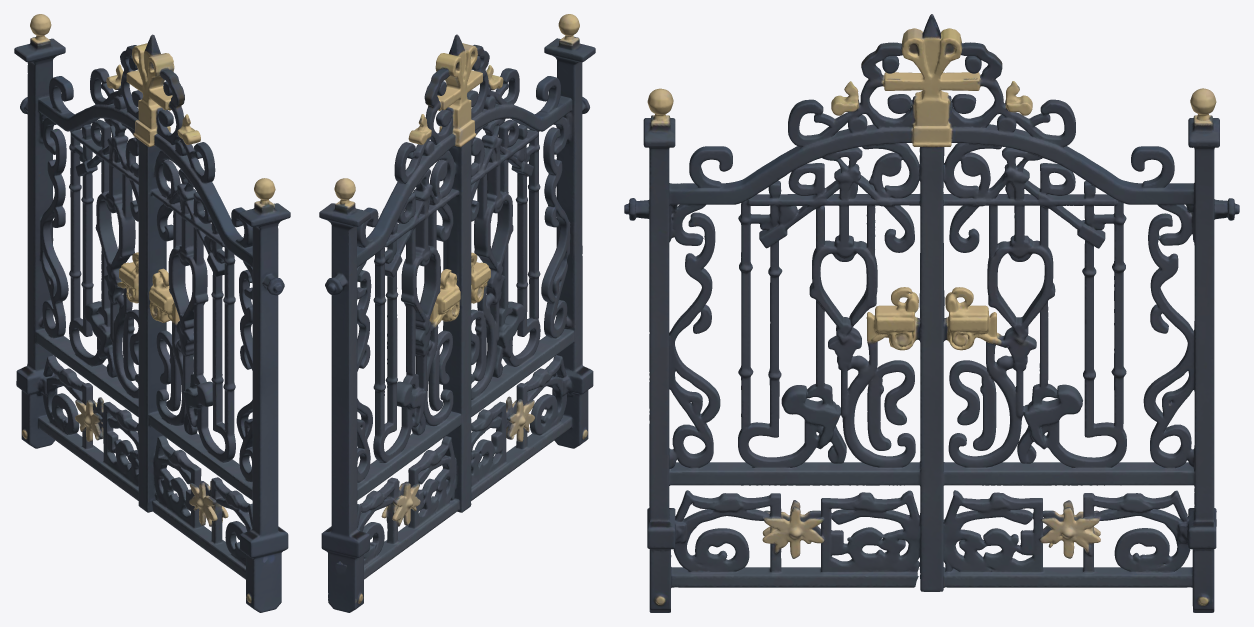
File: gate_ornate.glb
3 renders of one model, left to right at view 1: azimuth 30°, elevation 25°; view 2: azimuth 150°, elevation 25°; view 3: azimuth 270°, elevation 25°, orthographic. The views are drawn at different scales.
Parts seen in each view (by area): view 1: tripo_node_e7981f70-5a9f-4ab8-912b-1aa595d6a682; view 2: tripo_node_e7981f70-5a9f-4ab8-912b-1aa595d6a682; view 3: tripo_node_e7981f70-5a9f-4ab8-912b-1aa595d6a682.
Boxes of the visible parts, x1,y1,x2,y2 form: tripo_node_e7981f70-5a9f-4ab8-912b-1aa595d6a682: (14,14,290,612); tripo_node_e7981f70-5a9f-4ab8-912b-1aa595d6a682: (319,14,595,612); tripo_node_e7981f70-5a9f-4ab8-912b-1aa595d6a682: (624,14,1239,612).
Bounding box in the file's own units: 0.0851 × 1 × 0.9377.
1 material, 1 textured.
